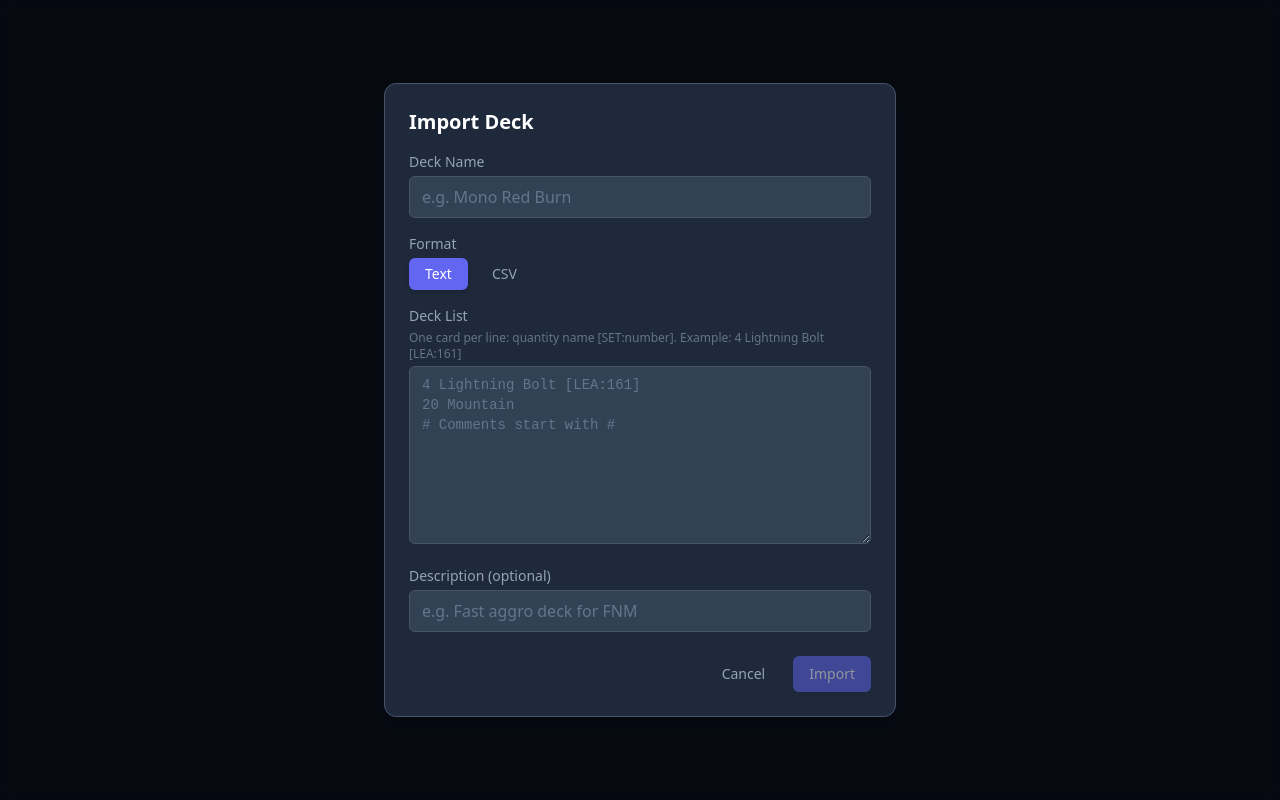
Test: DeckImportModal › submit button enabled when fields filled
The image size is (1280, 800).
Step 1. Type "My Deck" into the field with test id "deck-name-input" → (640, 197), box left=409, top=176, right=871, bottom=218
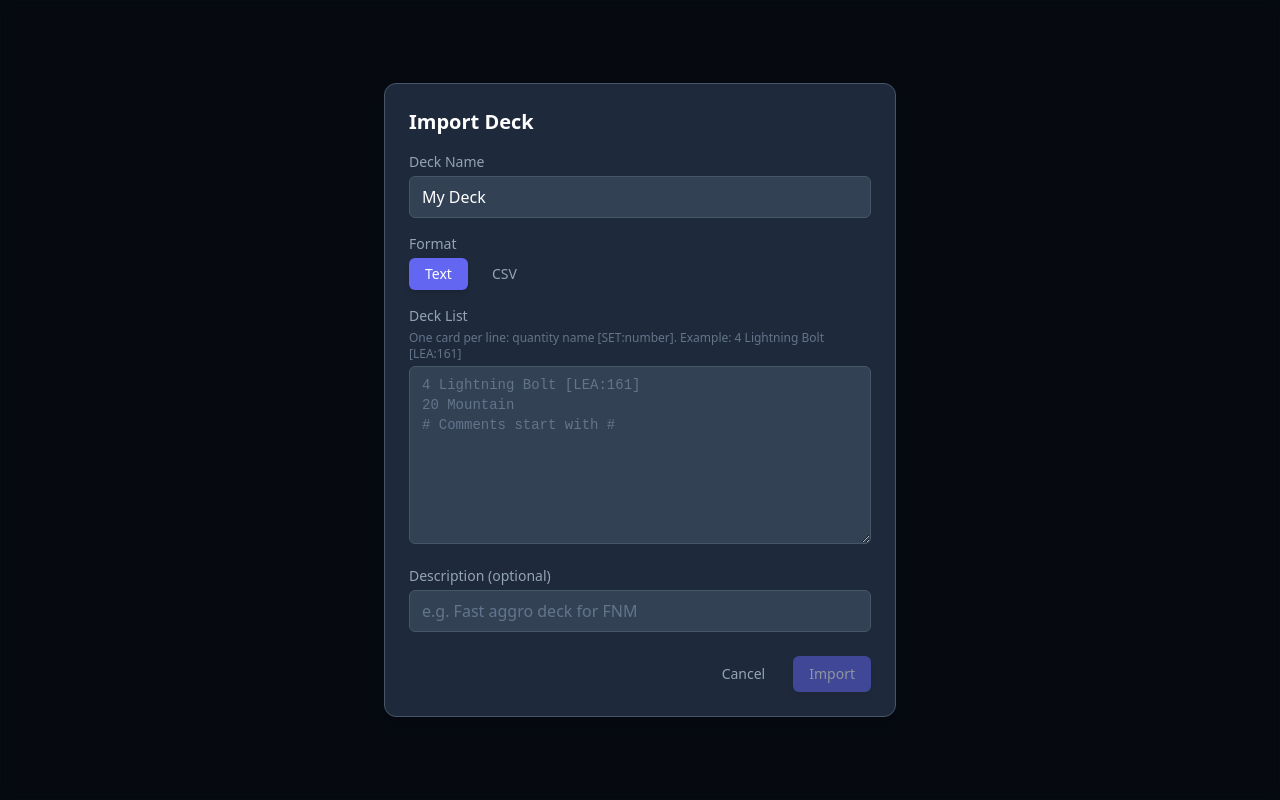
Step 2. Replace the text in the text box with test id "deck-content-input" with "4 Lightning Bolt" → (640, 455), box left=409, top=366, right=871, bottom=544
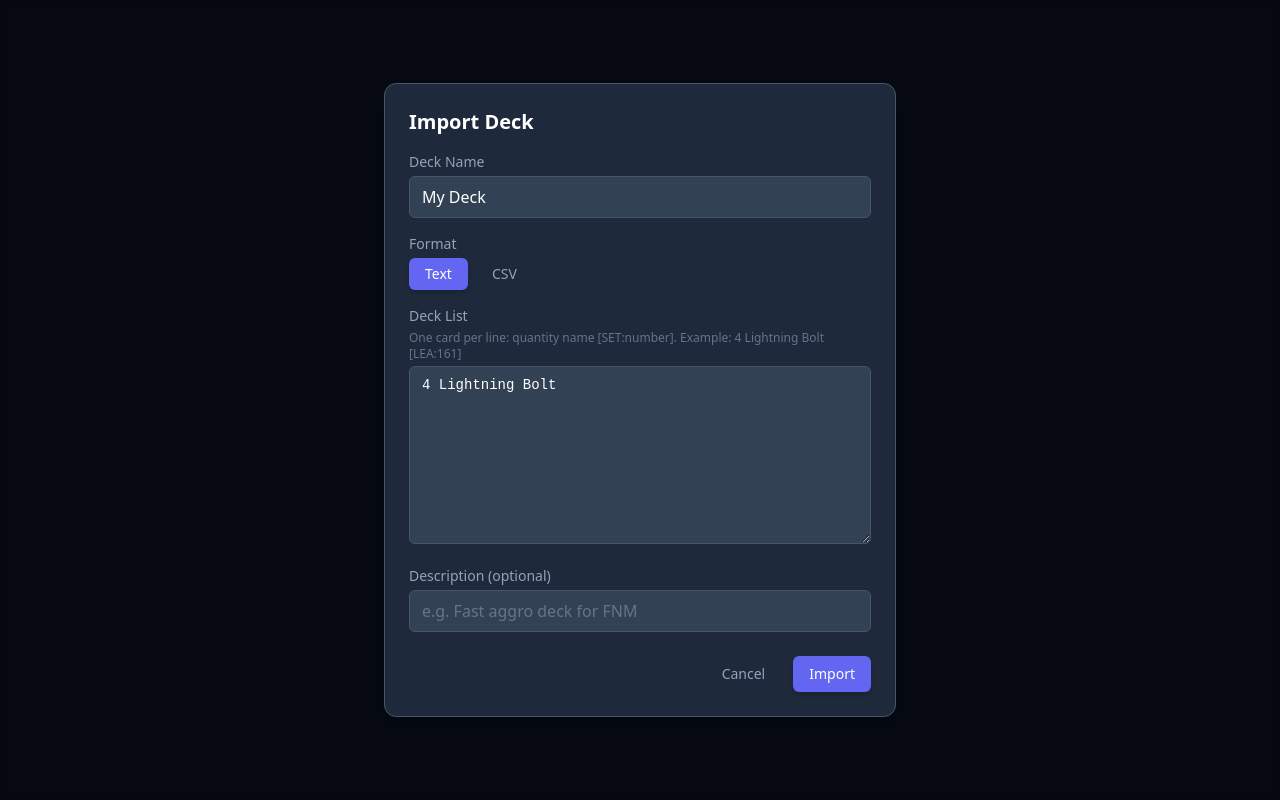
Now the button with test id "submit-import-btn" is enabled, box left=793, top=656, right=871, bottom=692
